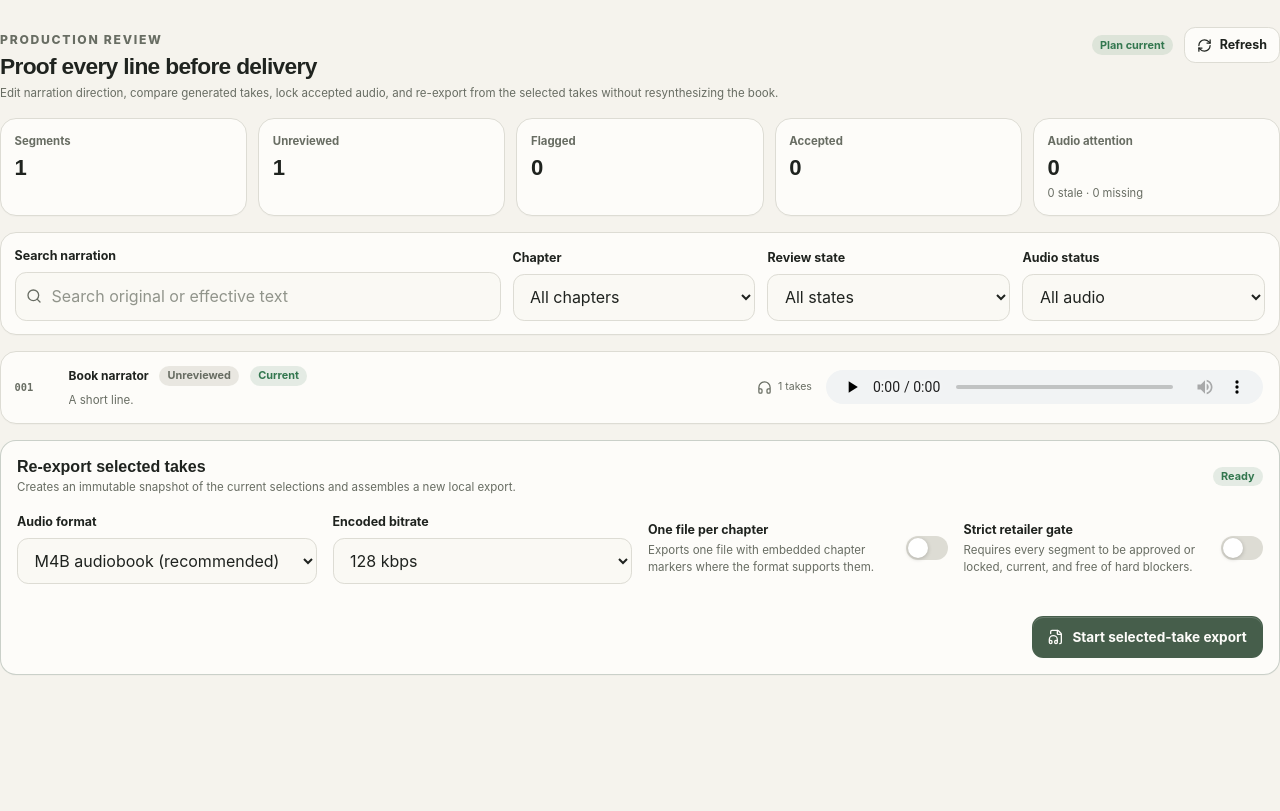
Test: proofing workbench › preserves a dirty segment across a newer refetch and ignores an older save response
Click the button "001 Book narrator Unreviewed Current A short line. 1 takes" at (109, 375), box x1=1 y1=352 x2=826 y2=422
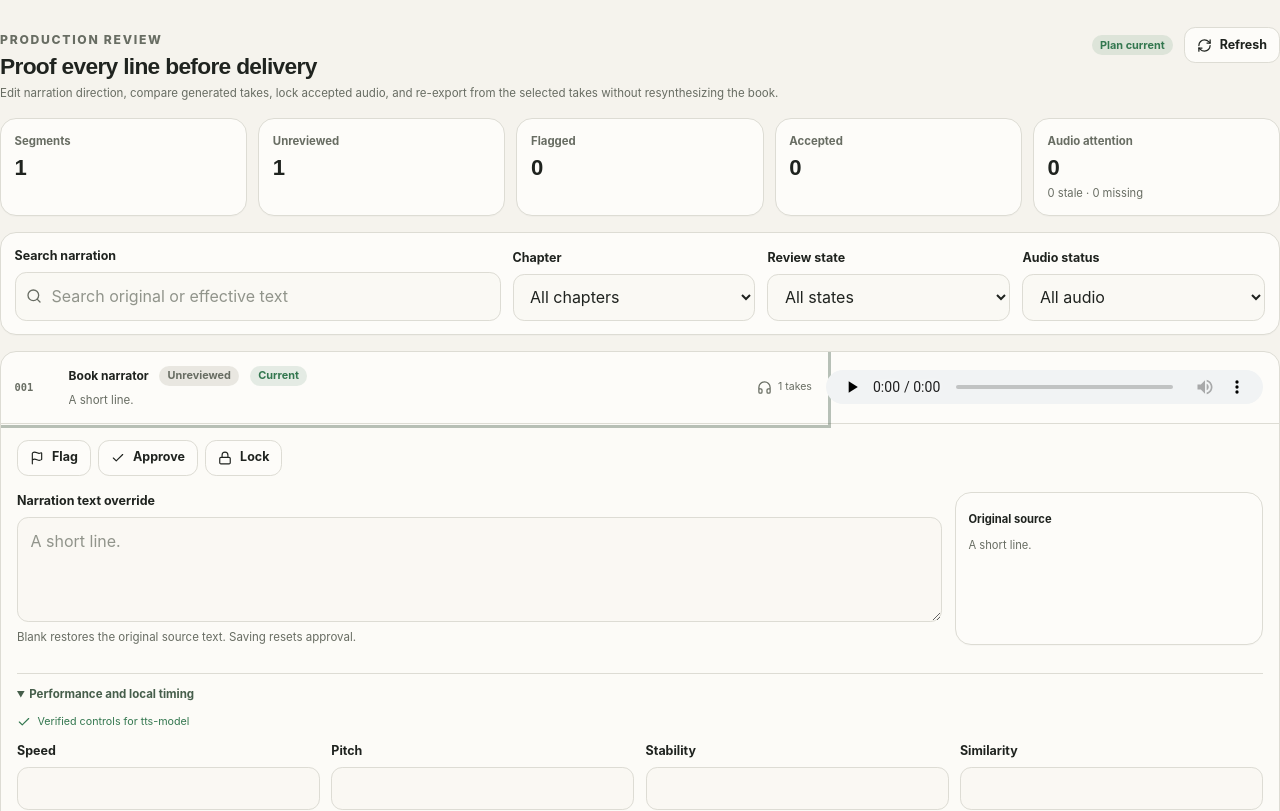
Type "My preserved draft" into the text box labelled "Narration text override" at (479, 570), box x1=17 y1=517 x2=942 y2=622
(page scrolled)
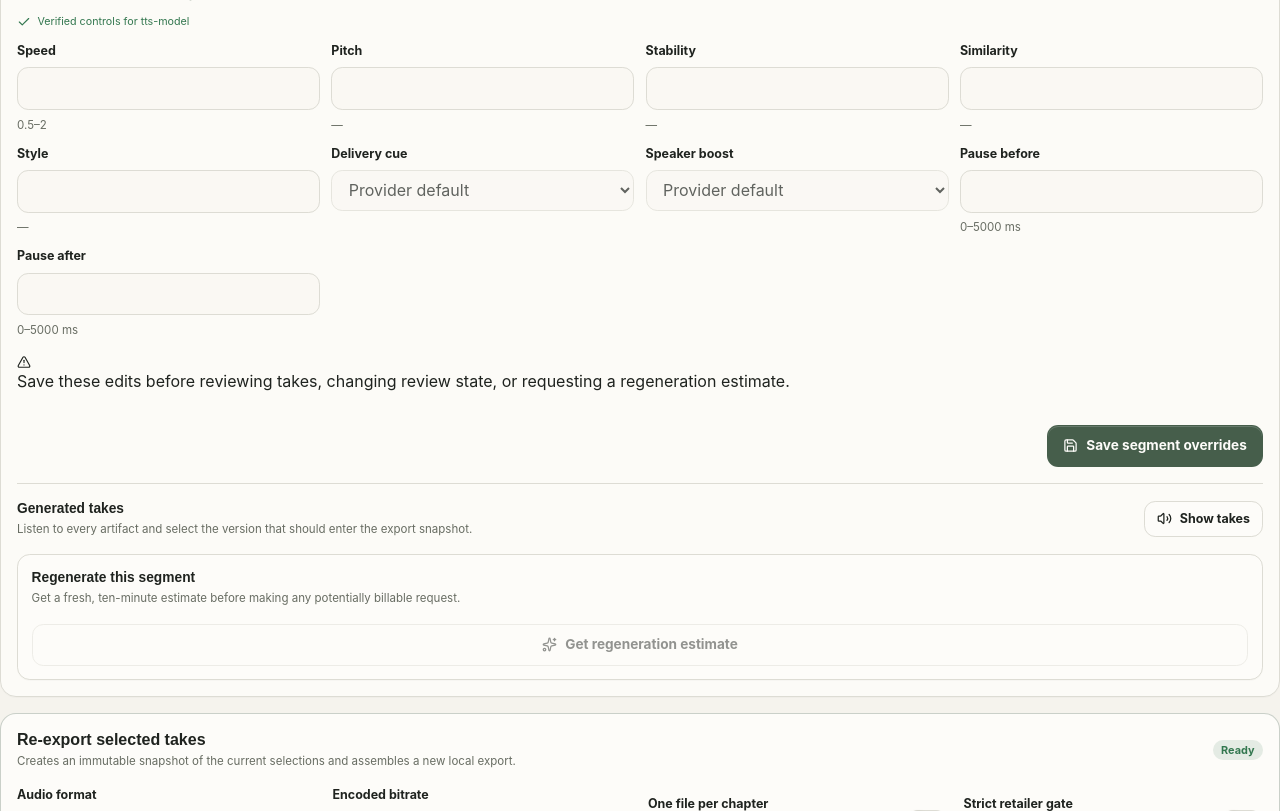
Click the button "Save segment overrides" at (1155, 446), box x1=1047 y1=425 x2=1263 y2=467
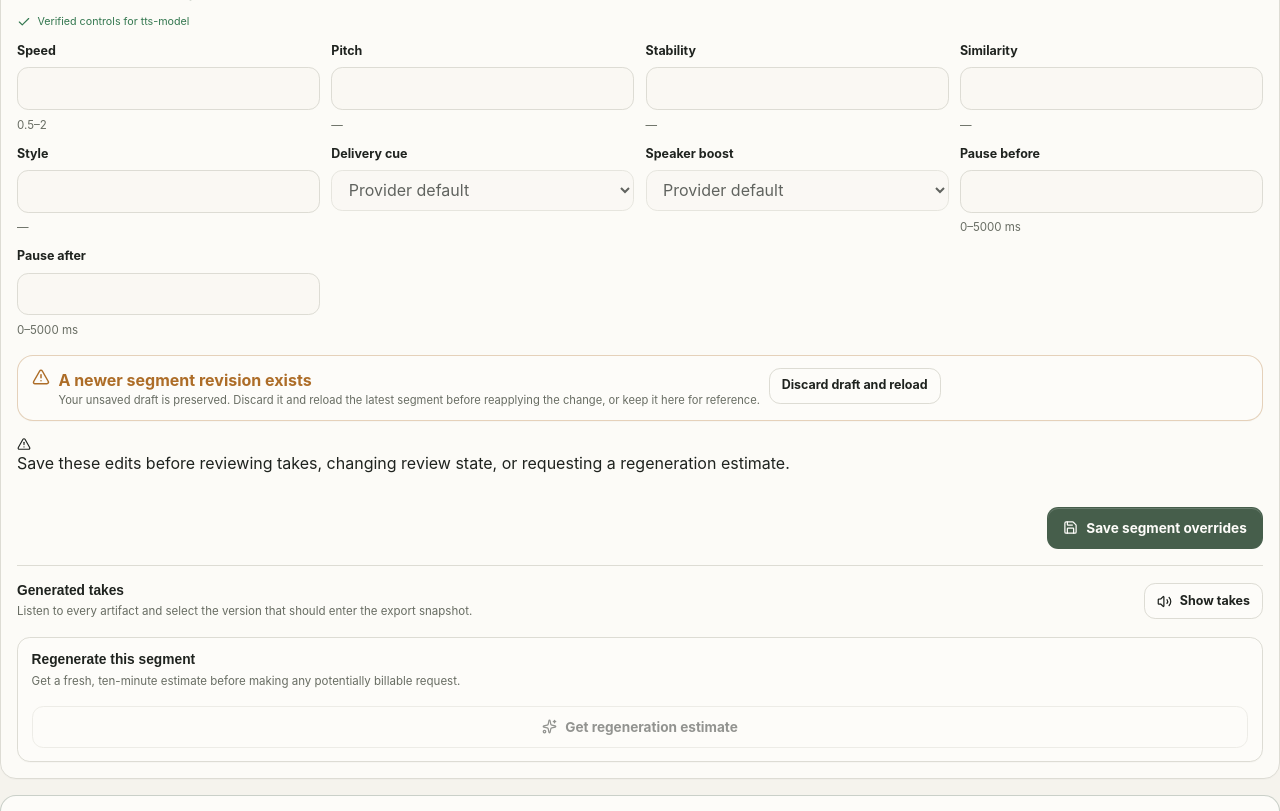
Now the text "A newer segment revision exists" is shown, box x1=58 y1=370 x2=312 y2=390
Click the button "Discard draft and reload" at (855, 386), box x1=769 y1=368 x2=941 y2=404
(page scrolled)
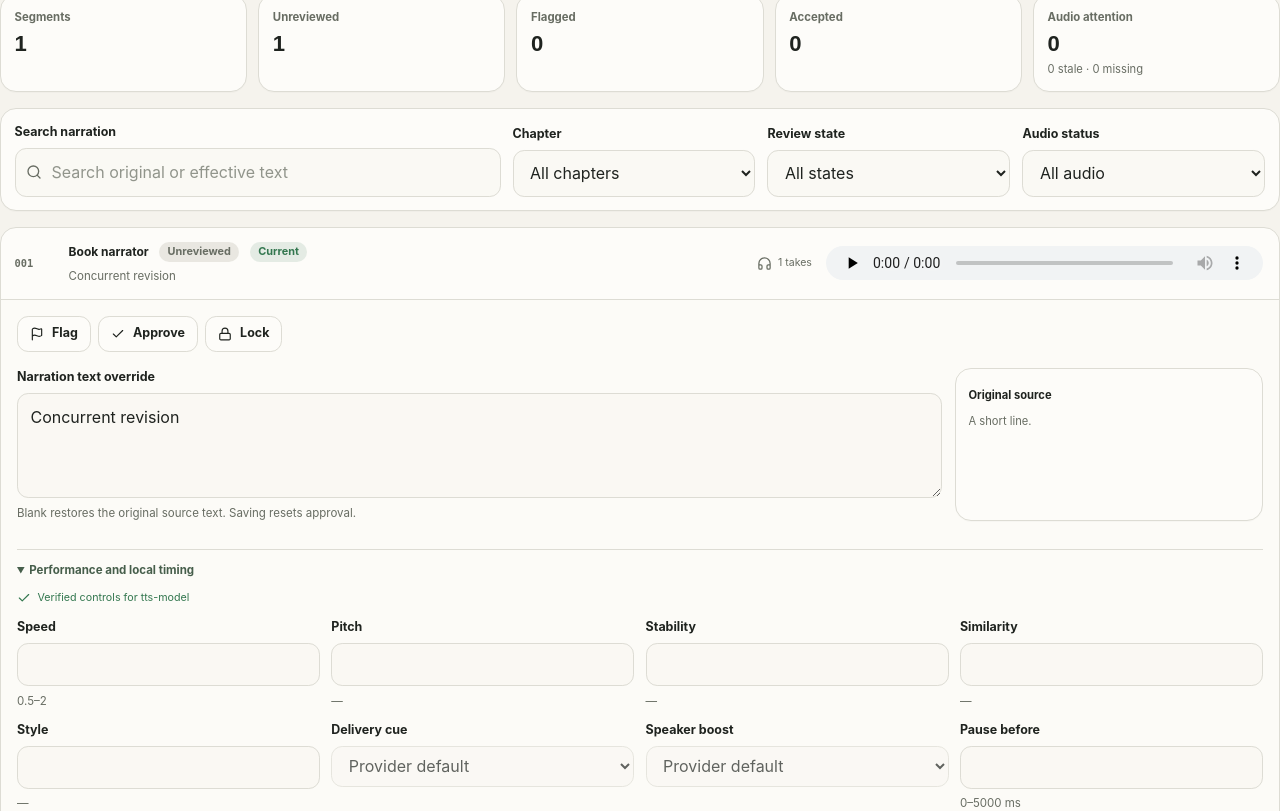
Now the text box labelled "Narration text override" holds "Concurrent revision", box x1=17 y1=393 x2=942 y2=498
